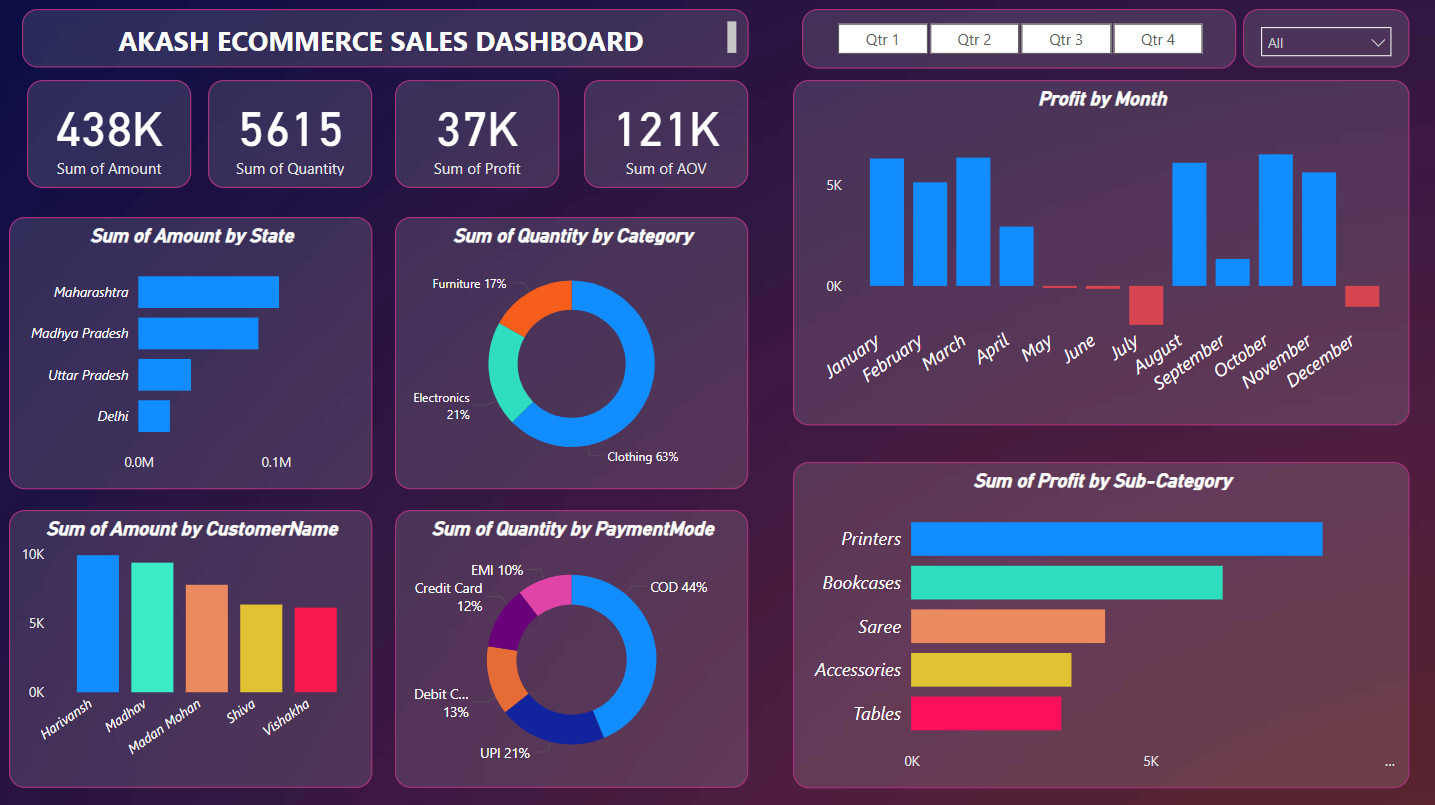

What the dashboard file says about the page in this screenshot:
{"tool":"powerbi","page":{"name":"Page 1","canvas":[1280,720],"ordinal":0},"visuals":[{"type":"textbox","box":[21.4,9.7,645.8,51.6],"z":0},{"type":"columnChart","title":" Profit by Month","fields":{"Category":["Orders.Order Date.Variation.Date Hierarchy.Month"],"Y":["Details.Profit"]},"box":[707,73,548,307],"z":1000},{"type":"barChart","fields":{"Category":["Details.Sub-Category"],"Y":["Details.Profit"]},"box":[707,412,548,290],"z":2000},{"type":"donutChart","fields":{"Category":["Details.Category"],"Y":["Details.Quantity"]},"box":[353,195,314,242],"z":3000},{"type":"donutChart","fields":{"Category":["Details.PaymentMode","Details.Category"],"Y":["Details.Quantity"]},"box":[353,455,314,247],"z":4000},{"type":"card","fields":{"Values":["Details.Amount"]},"box":[26,73,146,96],"z":5000},{"type":"card","fields":{"Values":["Details.Profit"]},"box":[353,73,146,96],"z":6000},{"type":"card","fields":{"Values":["Details.Quantity"]},"box":[187,73,146,96],"z":7000},{"type":"card","fields":{"Values":["Details.AOV"]},"box":[521,73,146,96],"z":8000},{"type":"barChart","fields":{"Category":["Orders.State"],"Y":["Details.Amount"]},"box":[10,195,323,242],"z":9000},{"type":"columnChart","fields":{"Category":["Orders.CustomerName"],"Y":["Details.Amount"]},"box":[10,455,323,247],"z":10000},{"type":"slicer","fields":{"Values":["Orders.Order Date.Variation.Date Hierarchy.Quarter"]},"box":[714.9,9.7,386.1,52.5],"z":11000},{"type":"slicer","fields":{"Values":["Orders.State"]},"box":[1107,10,148,52],"z":12000}]}

Visuals, with their boxes in screenshot pixels (x1, y1, x2, y2), scaled from the page's 1280x720 canvas onto the 1435x805 screenshot:
textbox: locate(24, 11, 748, 69)
" Profit by Month" columnChart: locate(793, 82, 1407, 425)
barChart - Details.Sub-Category x Details.Profit: locate(793, 461, 1407, 785)
donutChart - Details.Category x Details.Quantity: locate(396, 218, 748, 489)
donutChart - Details.PaymentMode x Details.Category: locate(396, 509, 748, 785)
card - Details.Amount: locate(29, 82, 193, 189)
card - Details.Profit: locate(396, 82, 559, 189)
card - Details.Quantity: locate(210, 82, 373, 189)
card - Details.AOV: locate(584, 82, 748, 189)
barChart - Orders.State x Details.Amount: locate(11, 218, 373, 489)
columnChart - Orders.CustomerName x Details.Amount: locate(11, 509, 373, 785)
slicer - Orders.Order Date.Variation.Date Hierarchy.Quarter: locate(801, 11, 1234, 70)
slicer - Orders.State: locate(1241, 11, 1407, 69)
